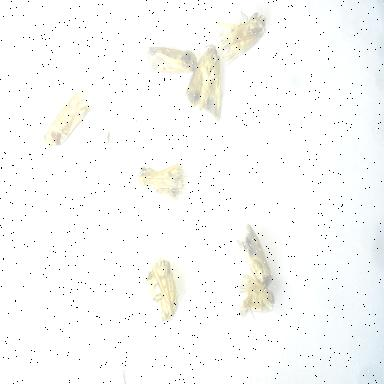abw: (38, 84, 96, 154), (182, 35, 226, 125), (210, 5, 270, 67), (140, 250, 184, 326), (231, 220, 275, 290), (134, 155, 192, 206), (228, 270, 282, 324), (142, 40, 200, 84)
